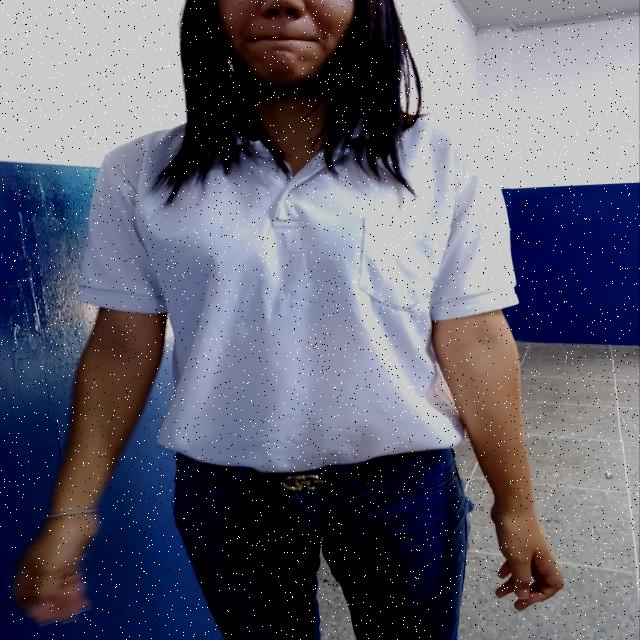pantalon_oscuro: (170, 455, 472, 640)
